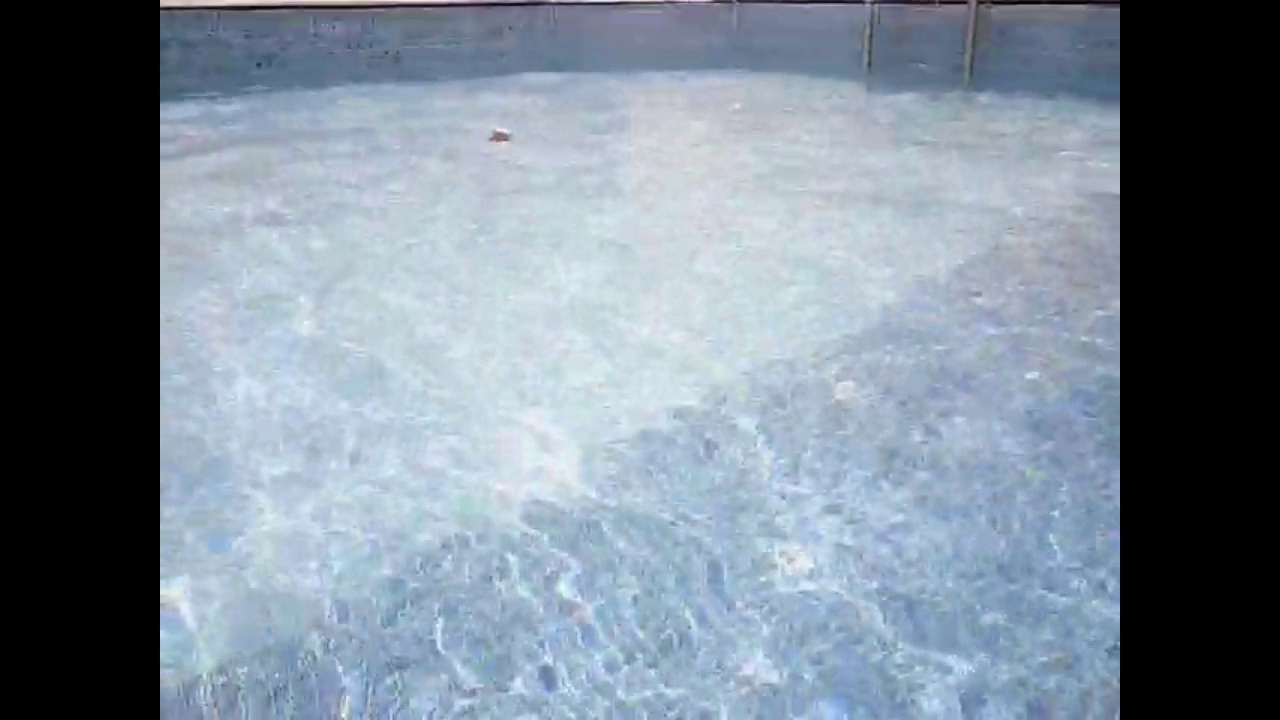debris: (481, 126, 517, 149)
